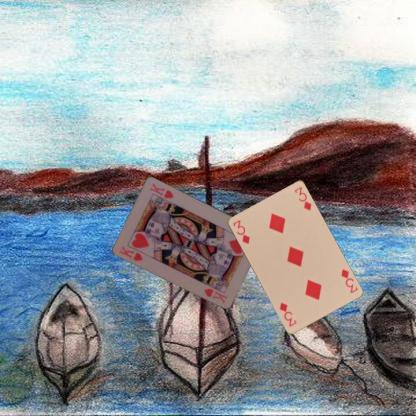3d: (230, 217, 251, 245), (338, 266, 359, 294)
Kh: (117, 244, 144, 262)
